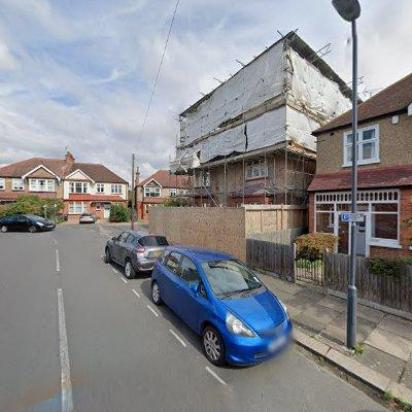moving-car: (0, 212, 56, 232)
stationary-car-offstreet: (78, 211, 96, 223)
stationary-car-onstreet: (150, 246, 292, 370), (104, 228, 172, 280)
